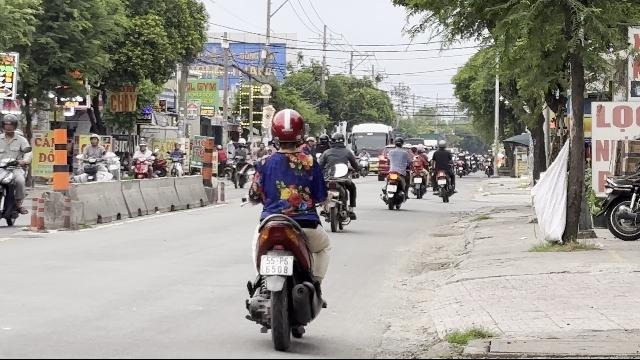helmet: (269, 108, 307, 150)
licenseplate: (260, 255, 292, 276)
motorcyclist: (240, 108, 336, 344)
